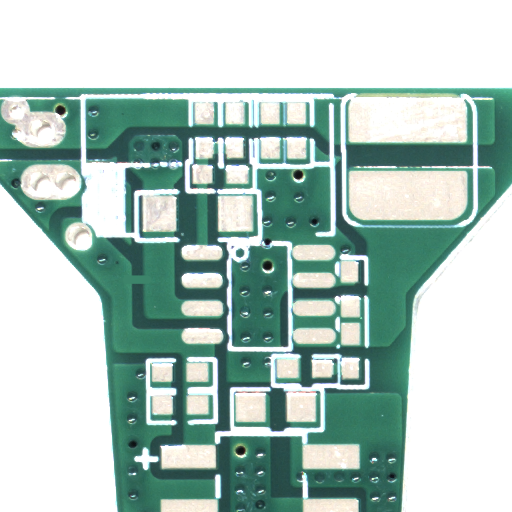Short: (136, 279, 155, 294)
